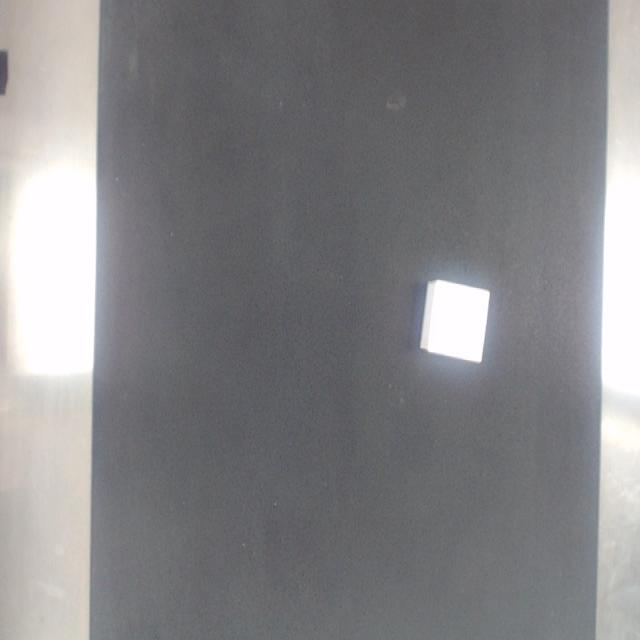Blanco: (420, 280, 489, 361)
